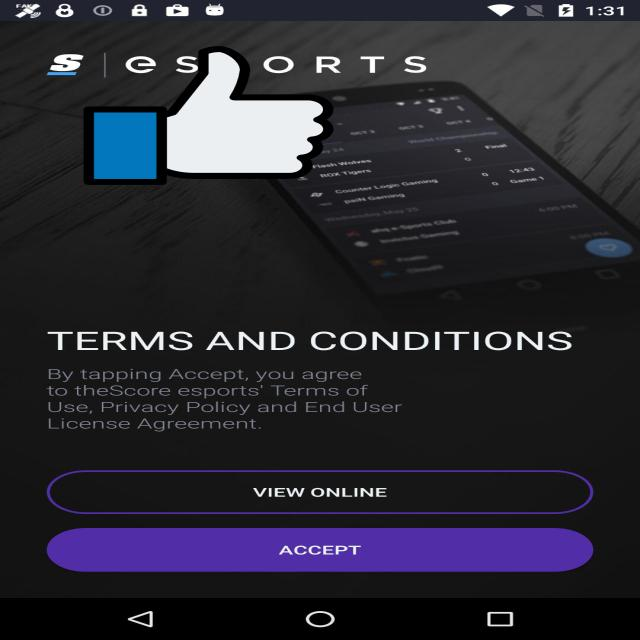privacy zuckering: (84, 43, 334, 188)
